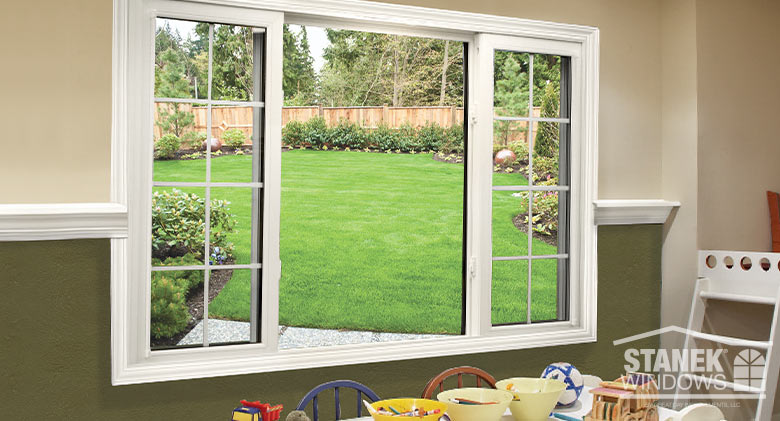Window: (149, 42, 581, 338)
